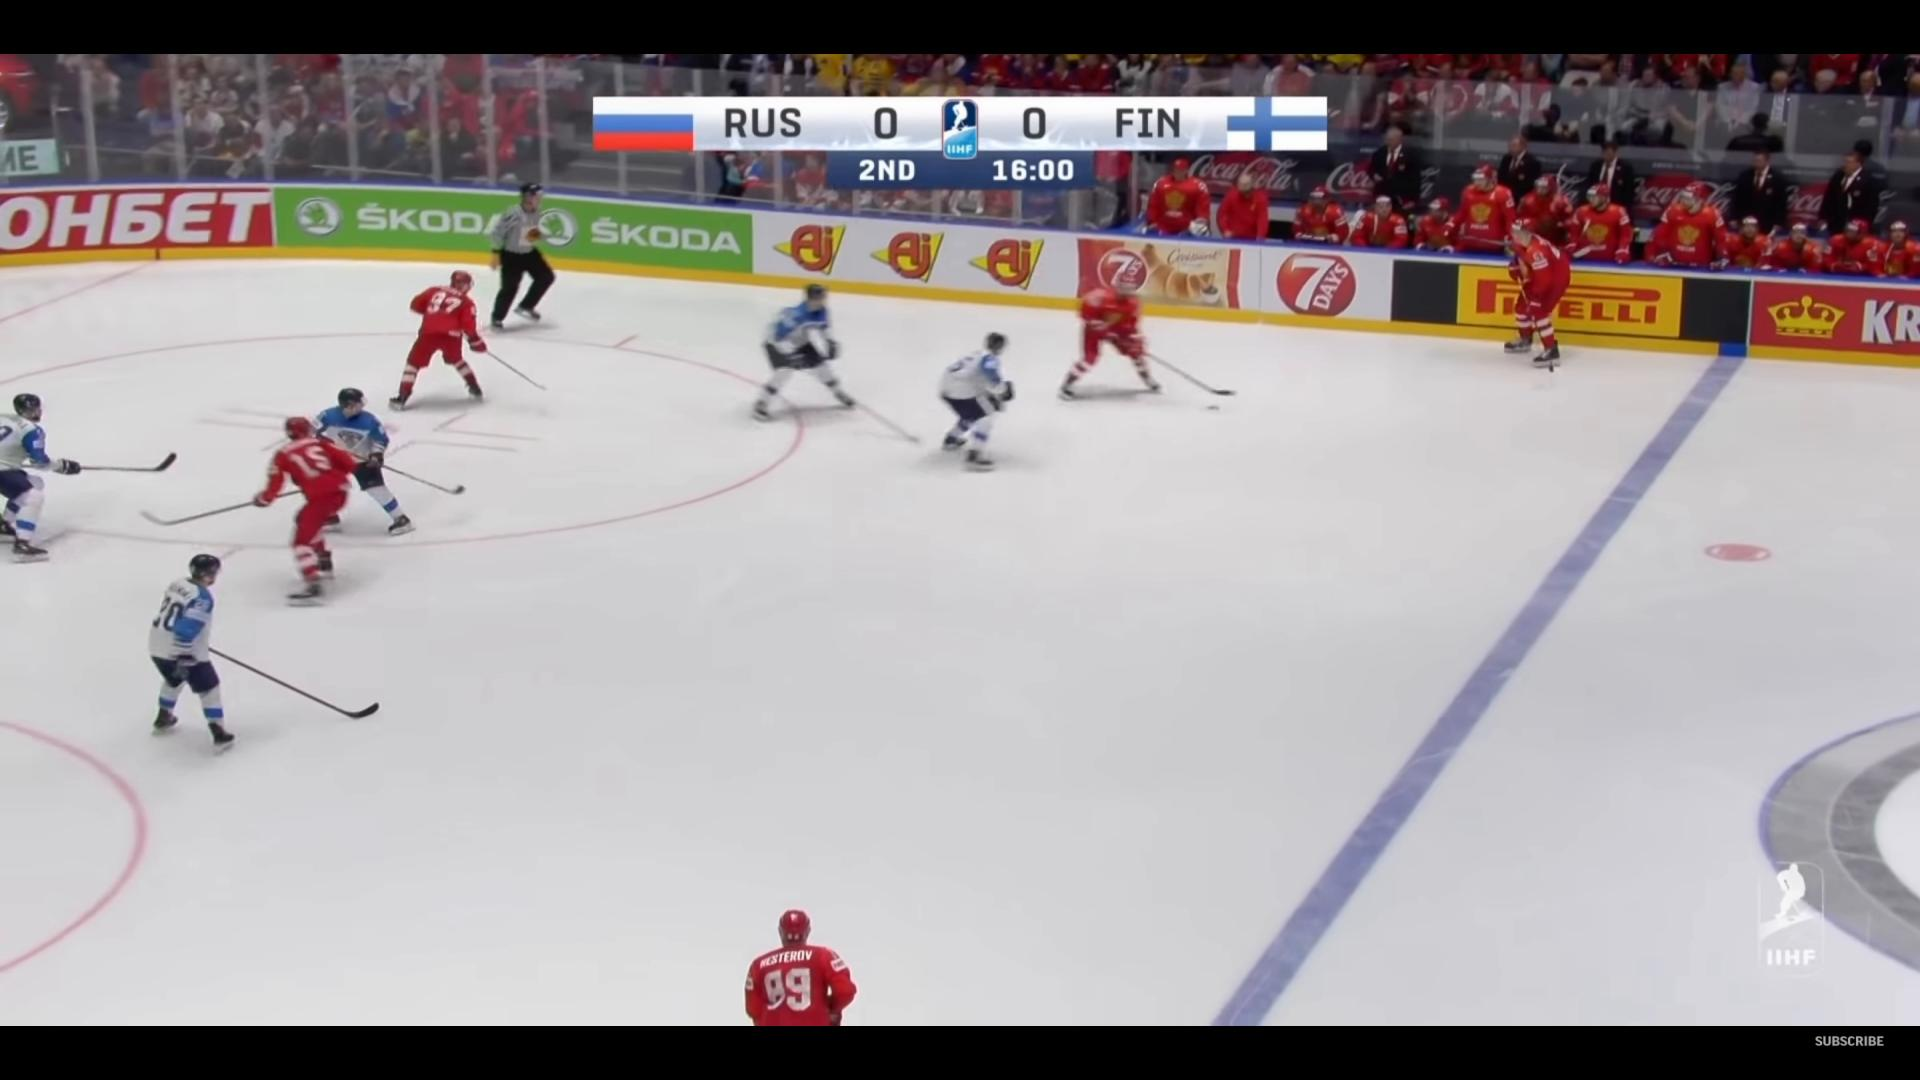puck: (1205, 404, 1220, 410)
